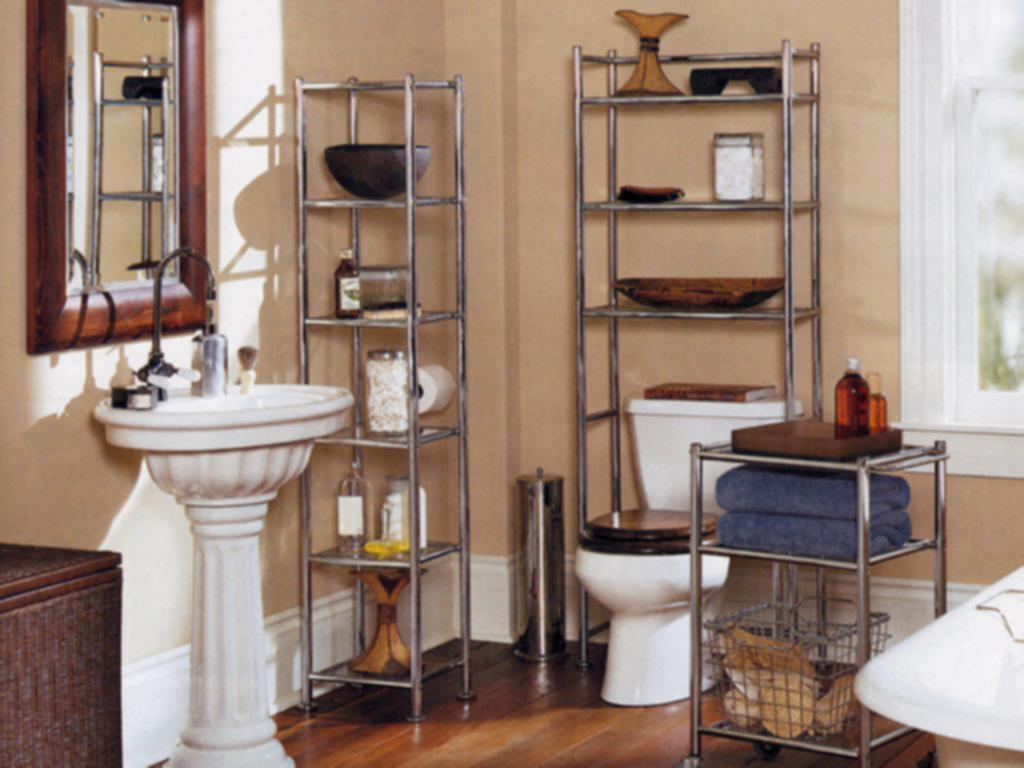Lavamanos: (118, 226, 352, 767)
Sanitario: (560, 391, 787, 717)
